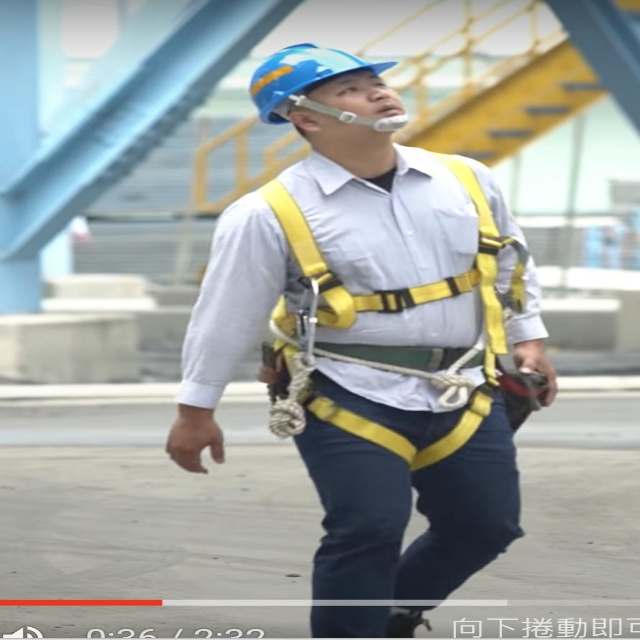Arnes_seguridad: (254, 151, 522, 477)
